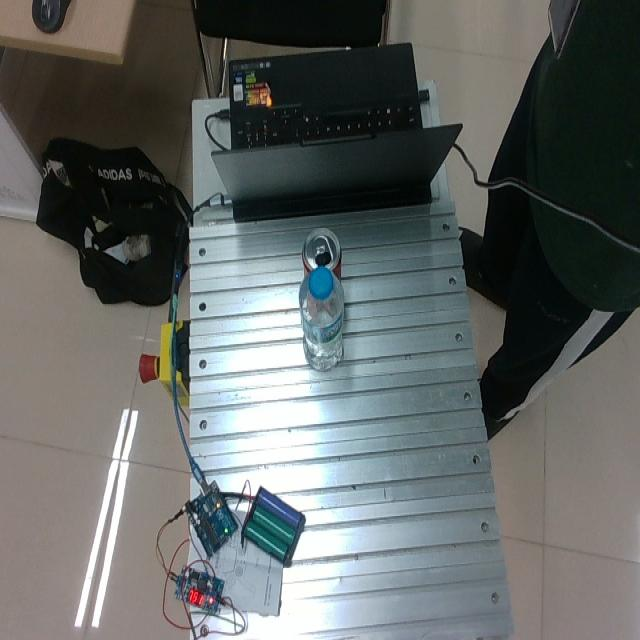coca: (301, 227, 342, 281)
lavie: (298, 260, 344, 371)
